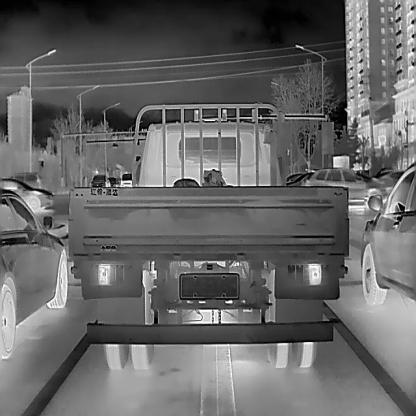car: (68, 102, 349, 368), (0, 188, 67, 357), (360, 163, 415, 304), (299, 166, 388, 205), (0, 176, 53, 208), (370, 166, 404, 192), (10, 169, 40, 189), (287, 168, 312, 185), (91, 174, 110, 186), (120, 172, 131, 186), (109, 176, 119, 186)
